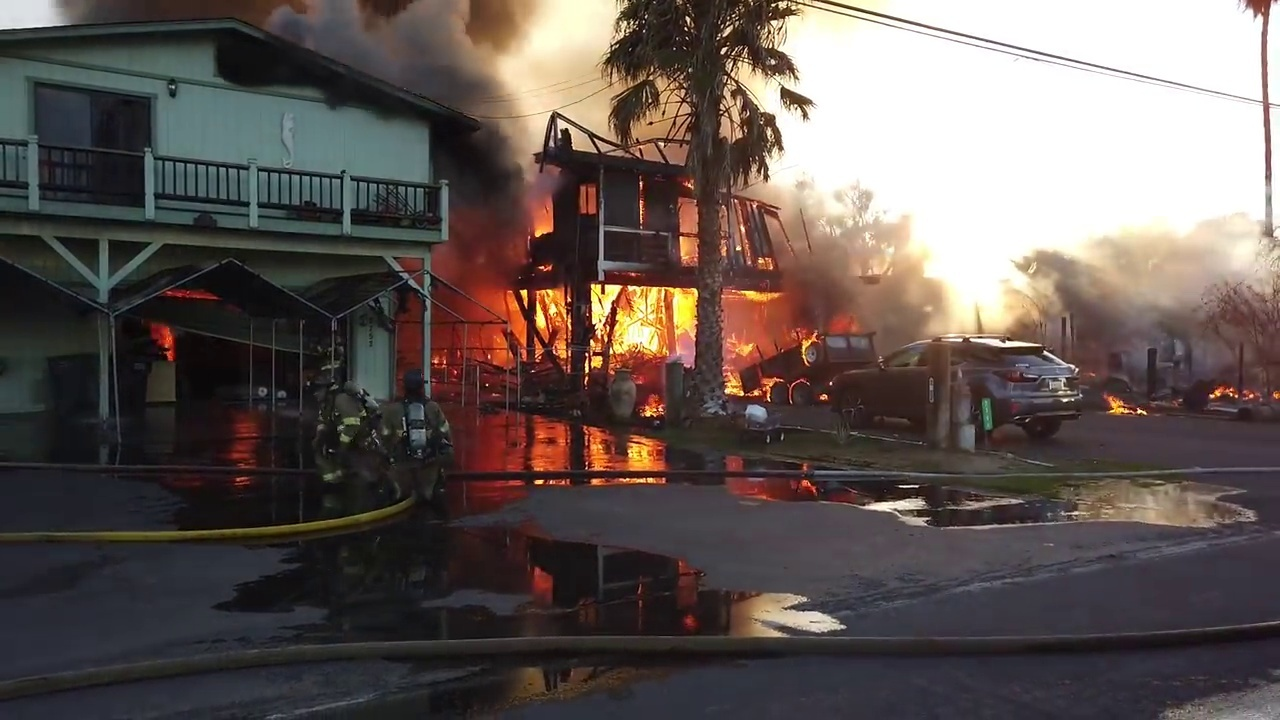fire: (502, 276, 685, 477), (755, 374, 833, 406), (716, 340, 750, 406), (528, 193, 555, 237), (149, 322, 174, 362), (1103, 393, 1149, 414), (727, 283, 784, 299), (798, 328, 819, 363), (1213, 386, 1264, 398), (640, 392, 664, 414)
smoke: (1001, 174, 1274, 369), (425, 1, 553, 281), (771, 188, 959, 336), (79, 4, 419, 73)
